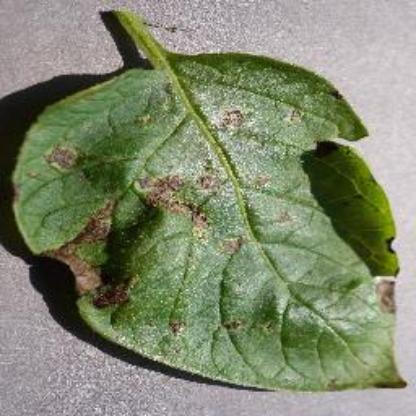Early-Blight: (8, 5, 408, 396)
